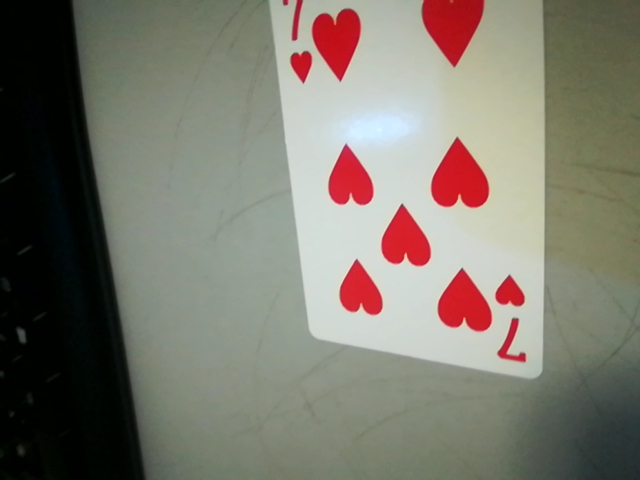hx 7: (489, 273, 539, 370)
